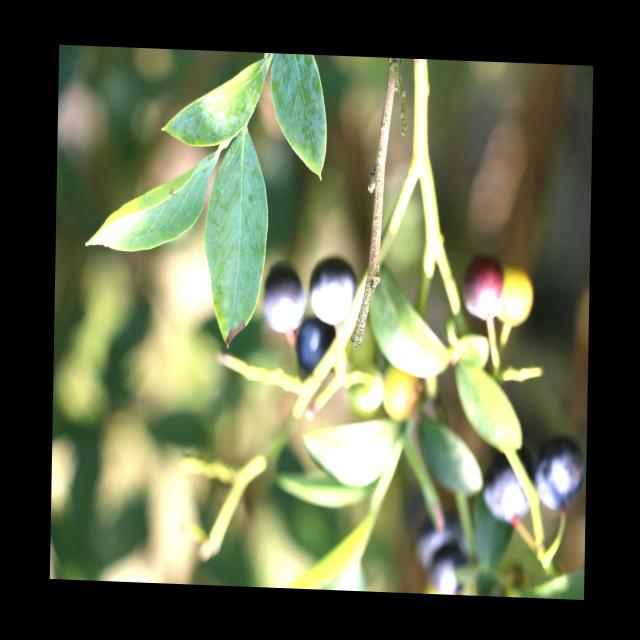blueberry: (478, 450, 537, 525), (306, 248, 358, 333), (532, 434, 587, 514), (258, 260, 309, 337), (295, 313, 337, 380)
blueberry-halfripe: (460, 255, 503, 319)
blueberry-unripe: (379, 357, 426, 424), (495, 268, 536, 327)
